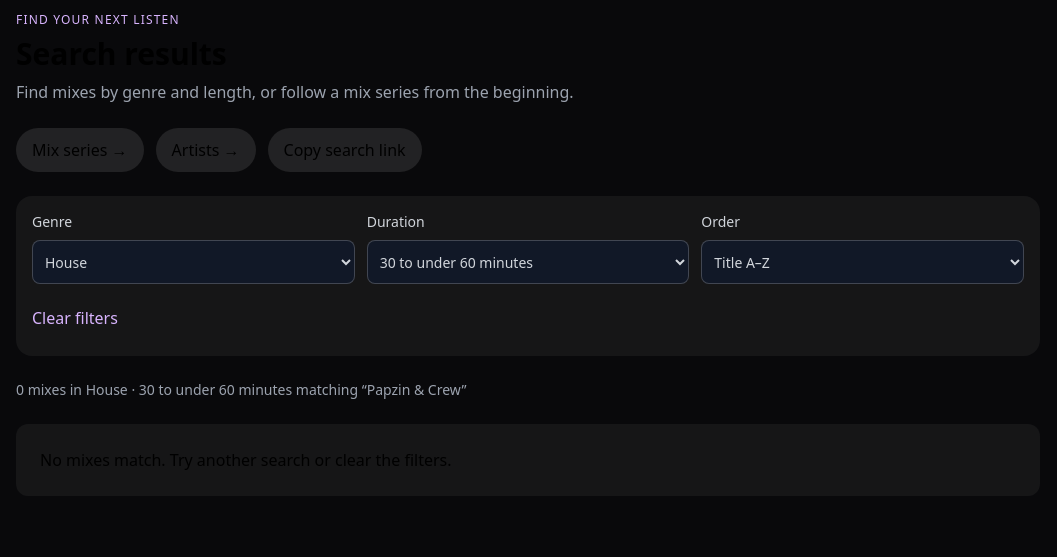
mix details and discovery › copies only the current query, filters and sort as a shareable search link
Later steps or results of the test are not shown.
Click the button "Copy search link".
click(345, 150)  # box [268, 128, 422, 172]
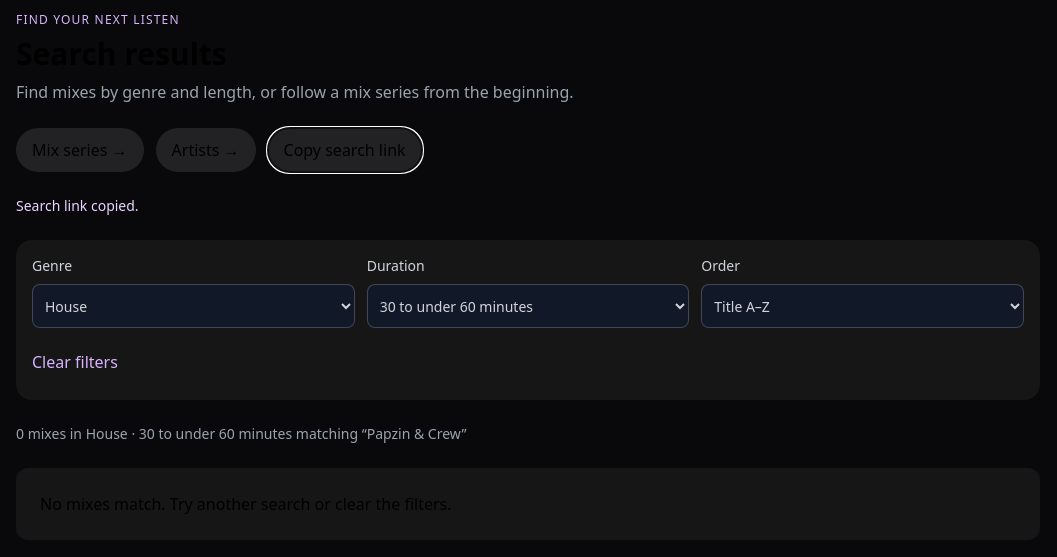
Expected: the text "Search link copied." is shown, [16, 196, 139, 215]
